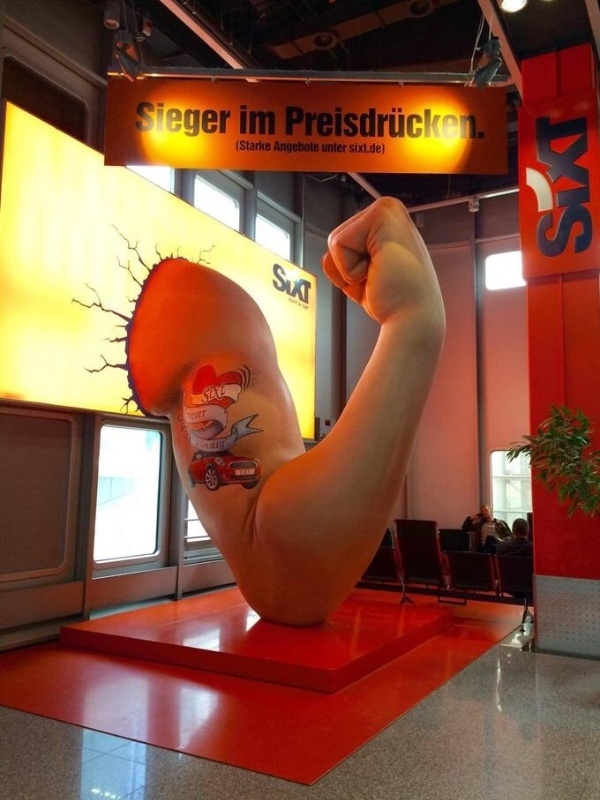text: (545, 114, 560, 259), (561, 114, 576, 259), (577, 114, 592, 259), (536, 114, 544, 259), (273, 262, 288, 305), (289, 262, 304, 305), (145, 101, 160, 143), (161, 101, 176, 143), (177, 101, 192, 143), (193, 101, 208, 143), (209, 101, 224, 143), (289, 106, 304, 140), (305, 106, 320, 140), (321, 106, 336, 140), (337, 106, 352, 140), (353, 106, 368, 140), (369, 106, 384, 140), (385, 106, 400, 140), (401, 106, 416, 140), (417, 106, 432, 140), (433, 106, 448, 140), (449, 106, 464, 140), (465, 106, 480, 140), (241, 105, 256, 137), (257, 105, 272, 137), (209, 382, 224, 404), (137, 101, 144, 143), (209, 436, 225, 453), (305, 262, 311, 305), (225, 101, 231, 143), (289, 296, 304, 311), (196, 436, 208, 453), (353, 142, 368, 155), (369, 142, 383, 155), (241, 140, 256, 152), (289, 141, 304, 153), (257, 140, 271, 152), (305, 141, 319, 153), (275, 141, 288, 153), (193, 410, 207, 420), (481, 106, 485, 140), (323, 143, 336, 152), (337, 143, 347, 152), (286, 106, 288, 140), (205, 382, 208, 404), (273, 105, 275, 137), (305, 296, 309, 311), (349, 142, 352, 155), (237, 140, 240, 152), (225, 382, 226, 404), (190, 410, 192, 420)
